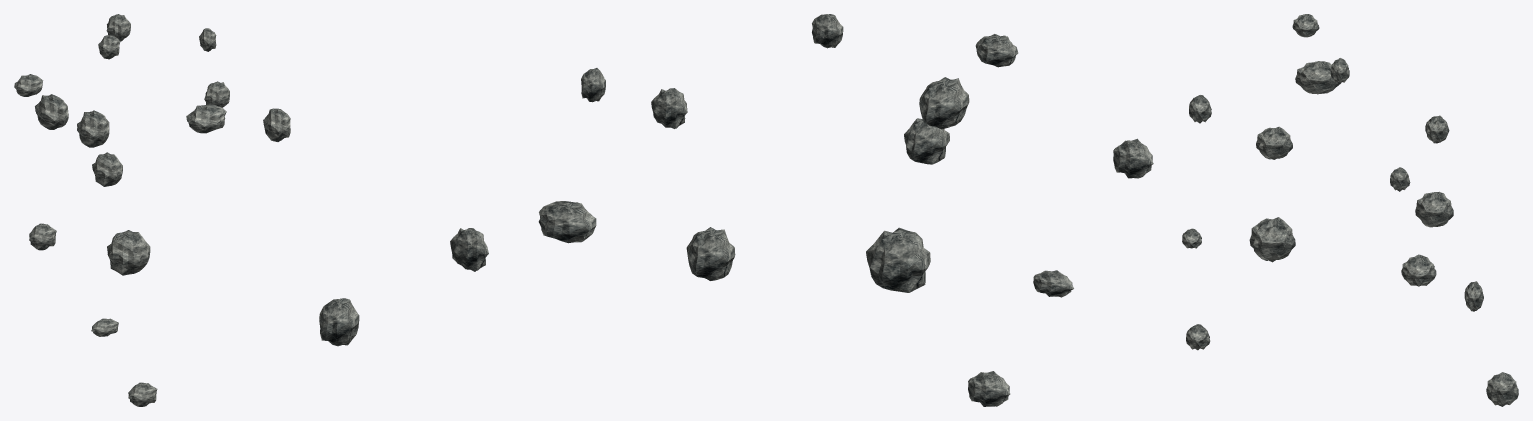
The model's file is cluster_05.glb.
The picture shows the model from 3 angles, left to right: view 1: azimuth 30°, elevation 25°; view 2: azimuth 150°, elevation 25°; view 3: azimuth 270°, elevation 25°; orthographic projection. The views are drawn at different scales.
Parts seen in each view (by area): view 1: cluster; view 2: cluster; view 3: cluster.
Part boxes in pixels (<box>): cluster: <box>14,14,290,406</box>; cluster: <box>319,14,1153,406</box>; cluster: <box>1182,14,1518,406</box>.
Bounding box in the file's own units: 5.08 × 3.64 × 3.61.
1 material, 1 textured.
